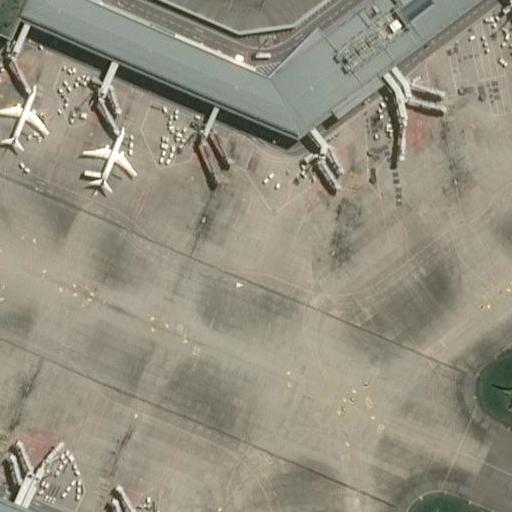Aircraft: (0, 82, 55, 167), (83, 118, 138, 200)
